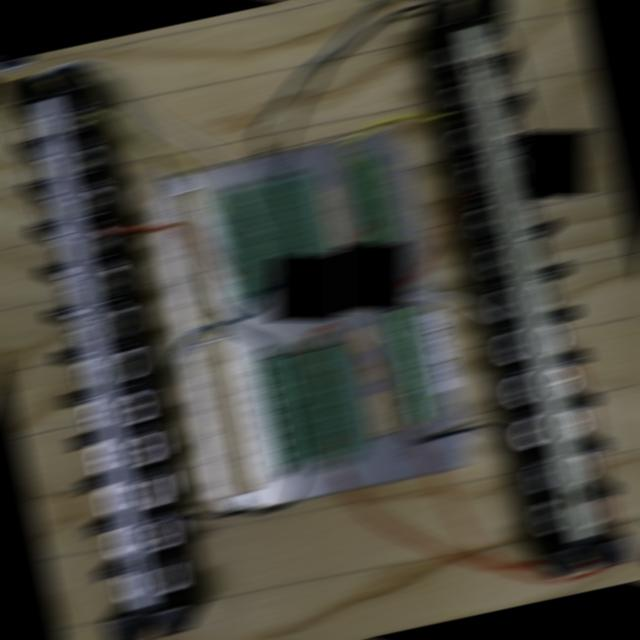Flathead_Block: (424, 0, 633, 576)
Phillips_Block: (2, 66, 188, 640)
Terminal_1: (382, 305, 437, 425), (347, 154, 402, 271)
Terminal_2: (278, 173, 332, 284), (314, 344, 367, 457), (281, 352, 334, 465), (245, 181, 296, 291), (211, 190, 262, 300)
